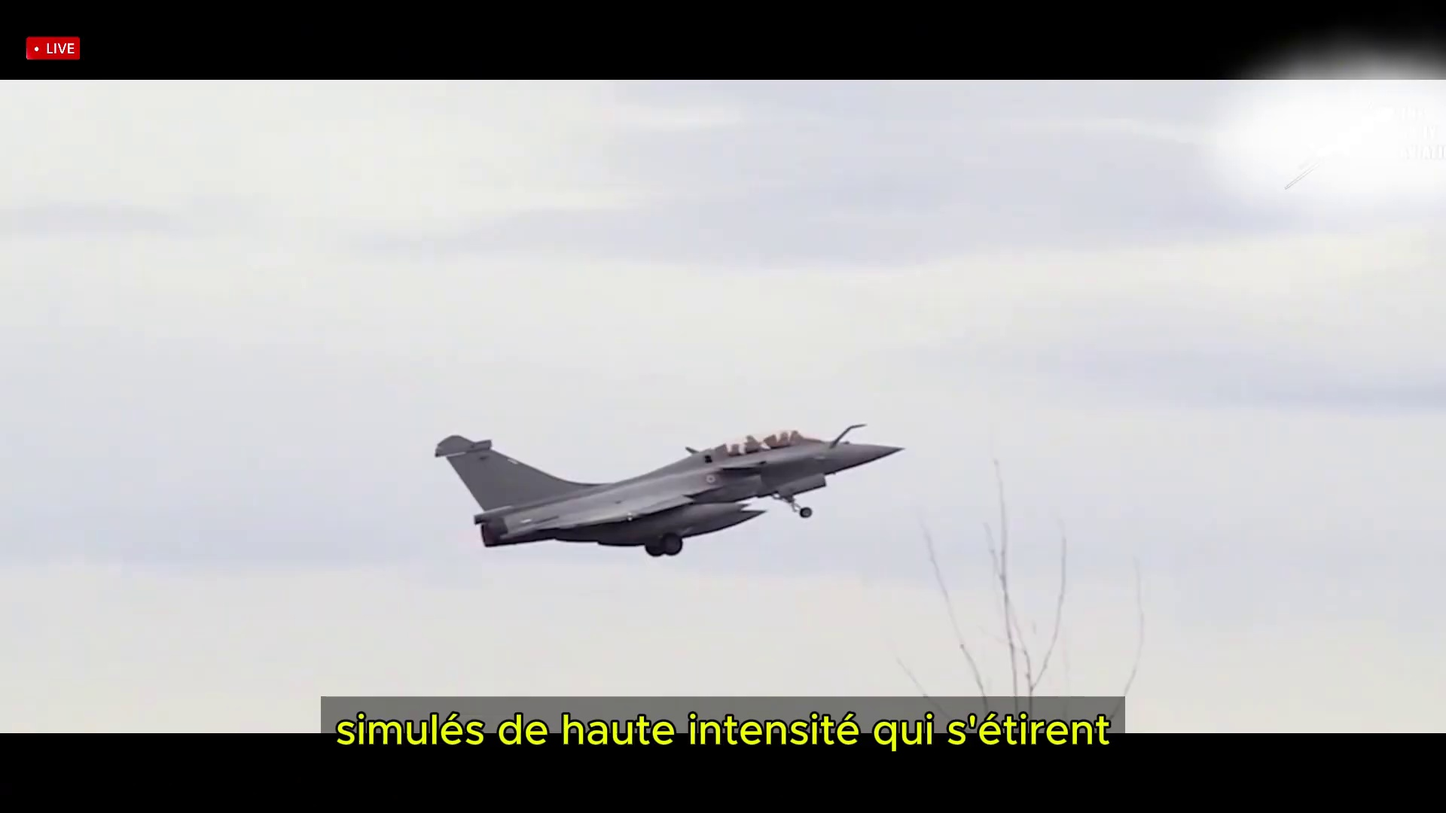Rafale: (433, 425, 895, 557)
